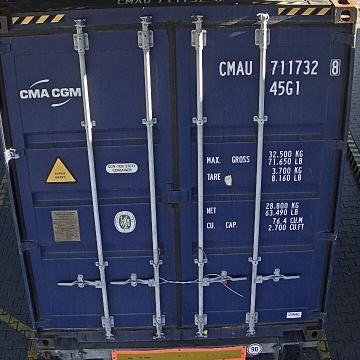serial_id: (219, 59, 340, 75)
